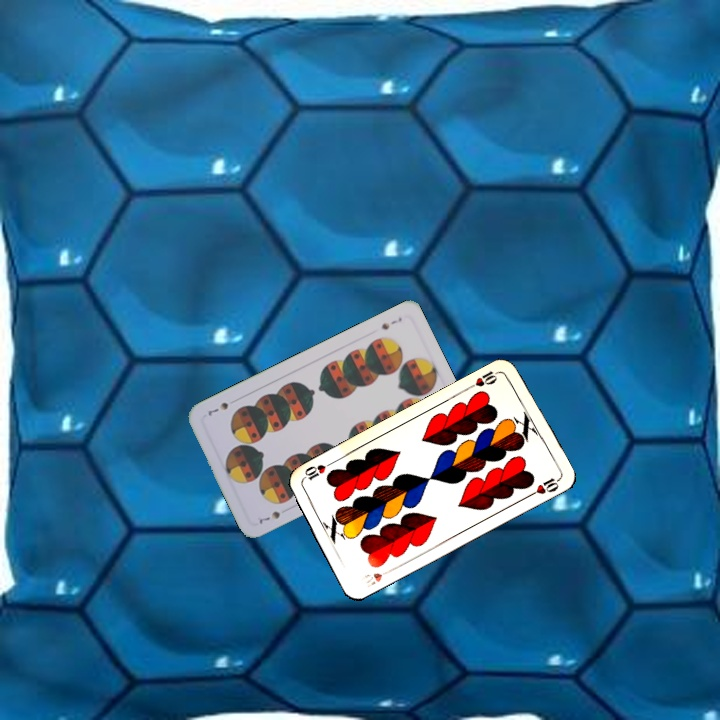H10: (465, 366, 503, 391), (360, 565, 395, 591)
S7: (255, 507, 283, 527), (377, 313, 404, 332)
